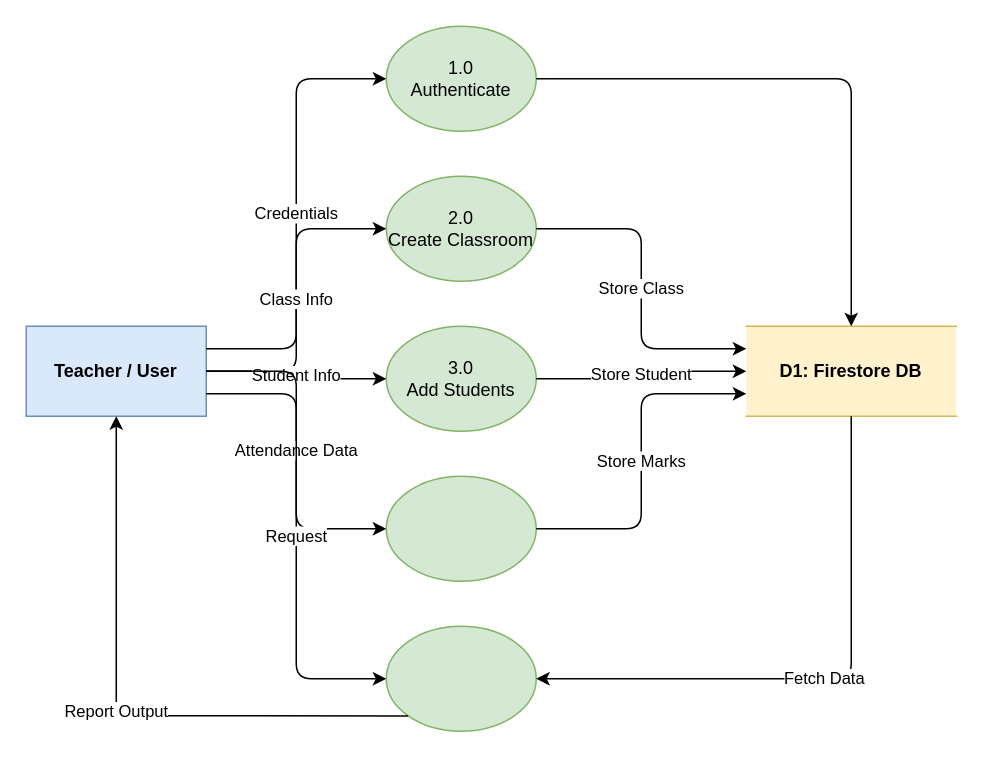
Image size: 983x758. Some labels were removed from this diagram. Each missing label, with the box of its shape:
4.0 Mark Attendance: (385, 475, 536, 581)
5.0 Generate Reports: (385, 625, 536, 731)
